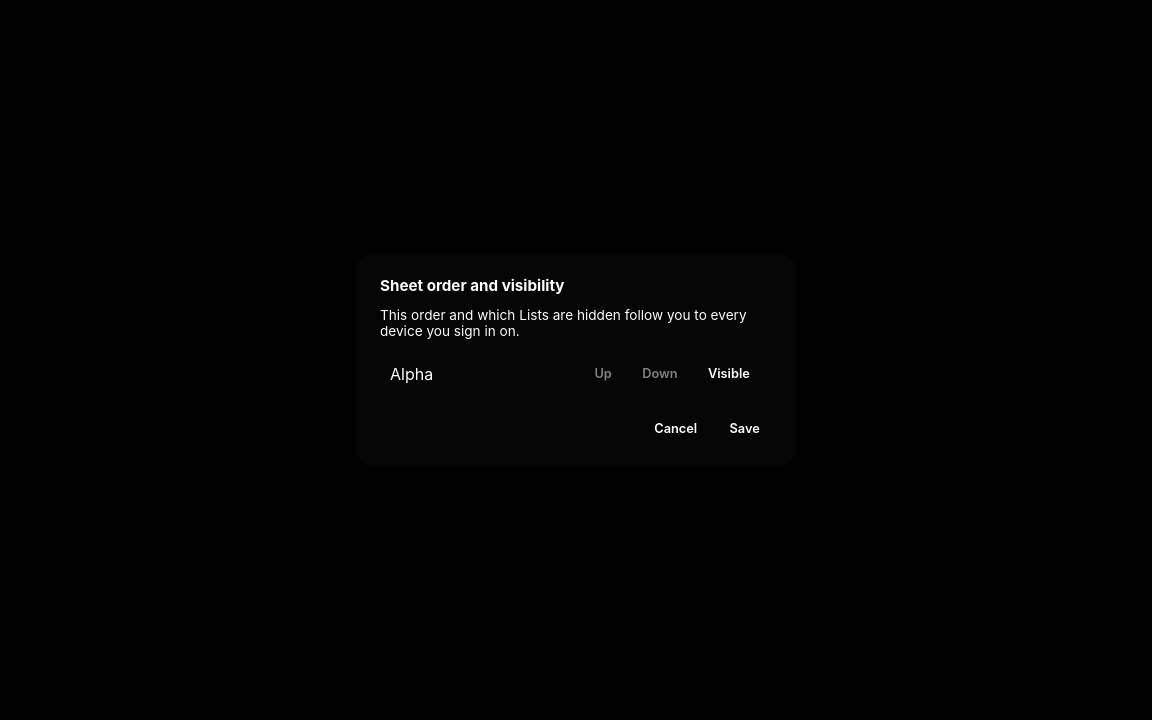
SheetPreferencesDialog › shows the server error on a failed save without closing
Click the button "Save" at (745, 429), box [717,414,772,444]
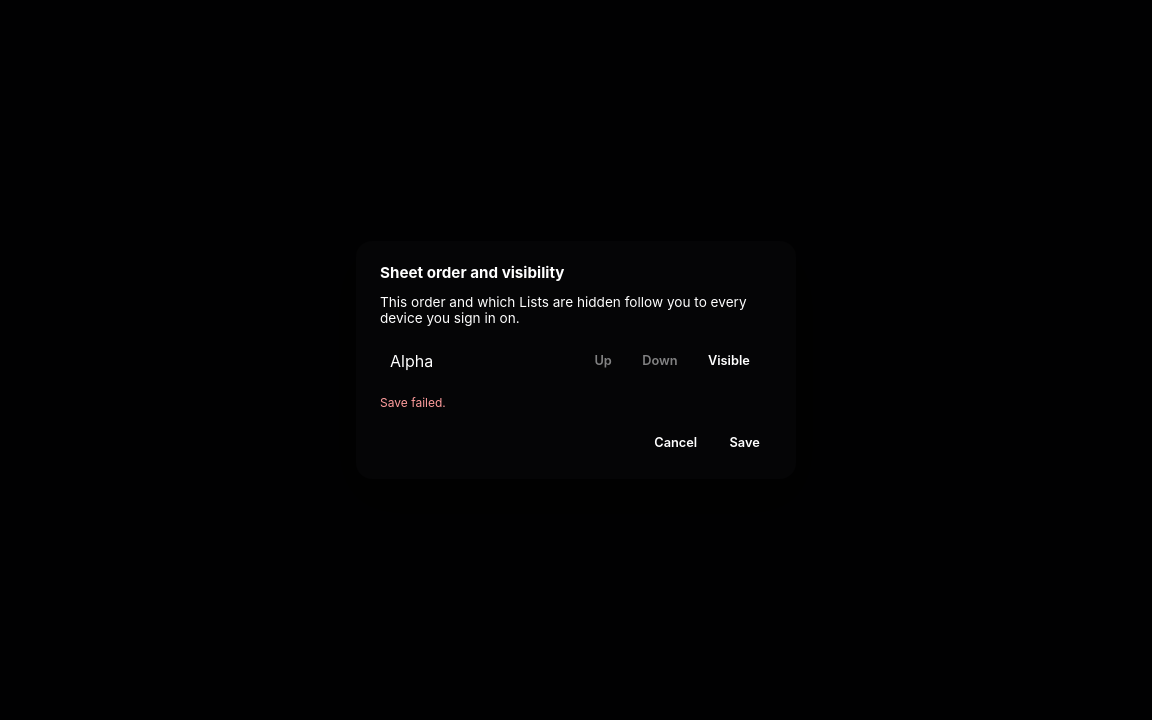
Now the text "Save failed." is shown, box [380,395,446,410]
